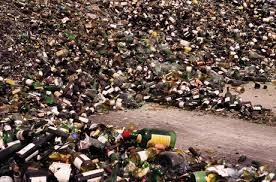glass: (120, 125, 184, 148), (14, 134, 57, 164), (66, 147, 97, 171), (249, 103, 276, 113)
metal: (189, 168, 208, 182)
